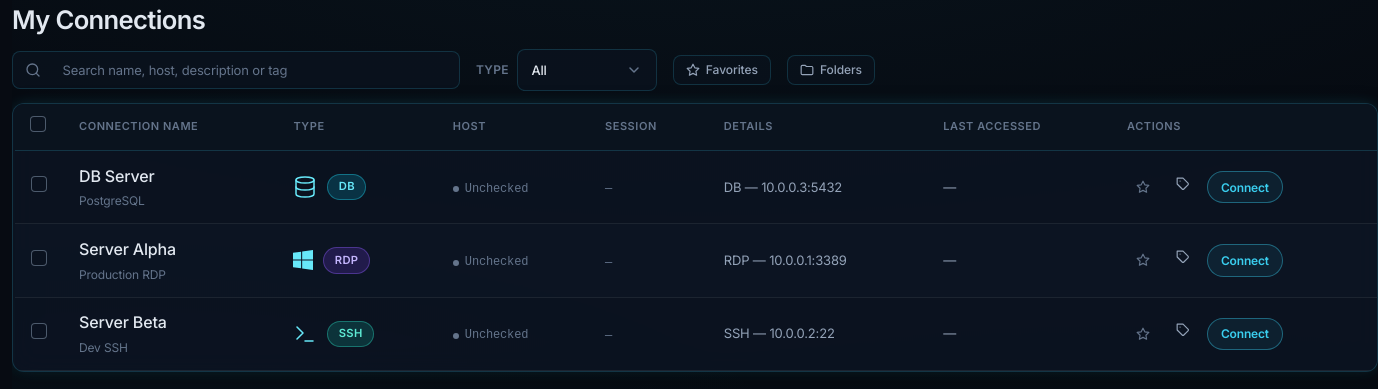
Test: Dashboard › shows Open Tiled button when 2+ connections selected
The width and height of the screenshot is (1378, 389).
Expected: the text "Server Alpha" is shown, [79, 239, 176, 259]
# Click 2 individual connection checkboxes (skip select-all at index 0)
Click the checkbox named "Select DB Server" at (39, 184), box [31, 176, 47, 192]
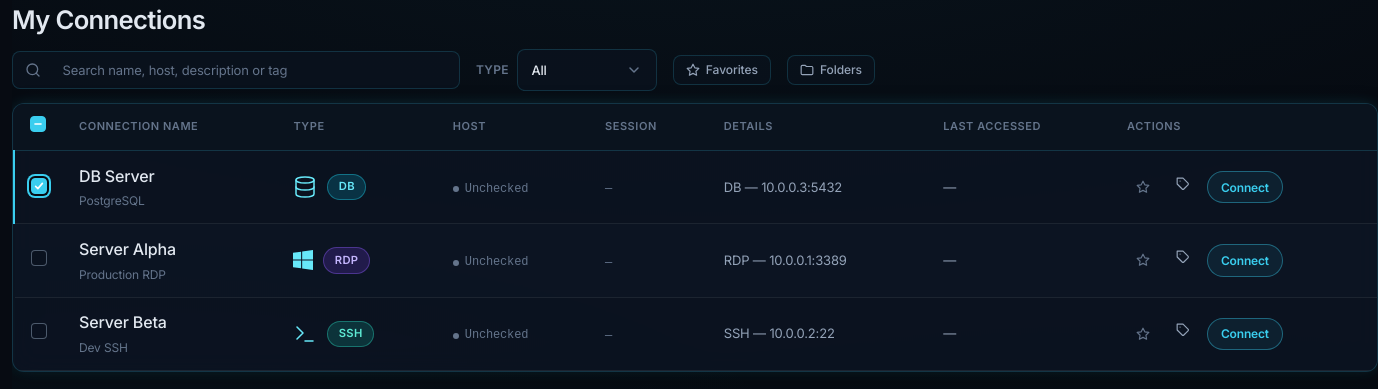
Click the checkbox named "Select Server Alpha" at (39, 258), box [31, 250, 47, 266]
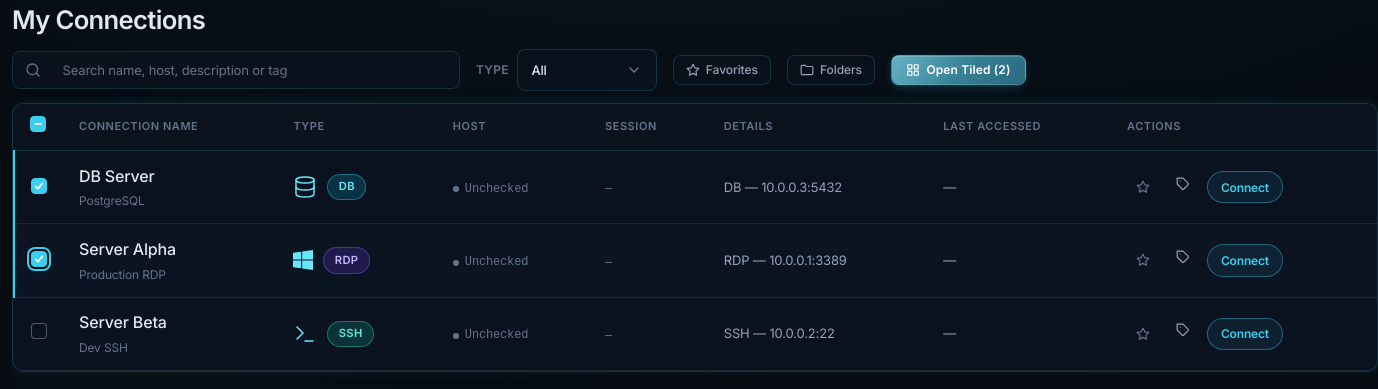
Now the button "Open Tiled (2)" is shown, box [891, 54, 1026, 85]
